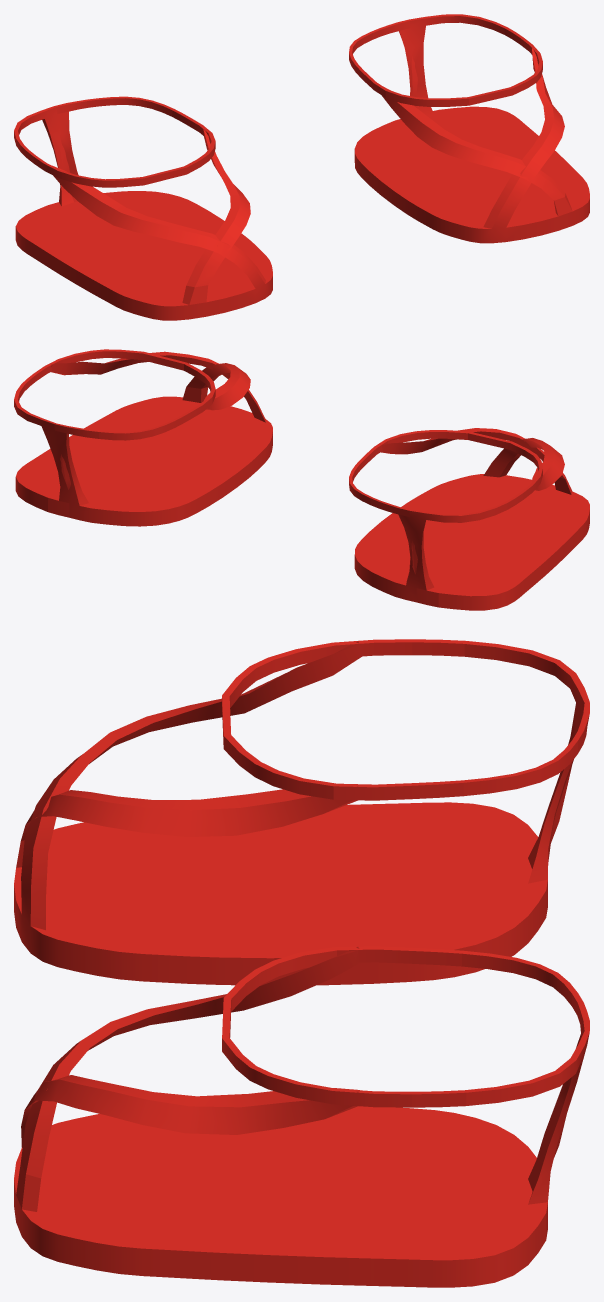
Rendered from shoes_dress.fbx.
3 renders of one model, top to bottom at view 1: azimuth 30°, elevation 25°; view 2: azimuth 150°, elevation 25°; view 3: azimuth 270°, elevation 25°, orthographic. The views are drawn at different scales.
Parts seen in each view (by area): view 1: shoes_dress; view 2: shoes_dress; view 3: shoes_dress.
Boxes of the visible parts, x1=… form: shoes_dress: x1=14, y1=14, x2=589, y2=320; shoes_dress: x1=14, y1=349, x2=589, y2=610; shoes_dress: x1=14, y1=639, x2=589, y2=1287.
Size of the model in its own units: 0.5941 by 0.1164 by 0.3159.
